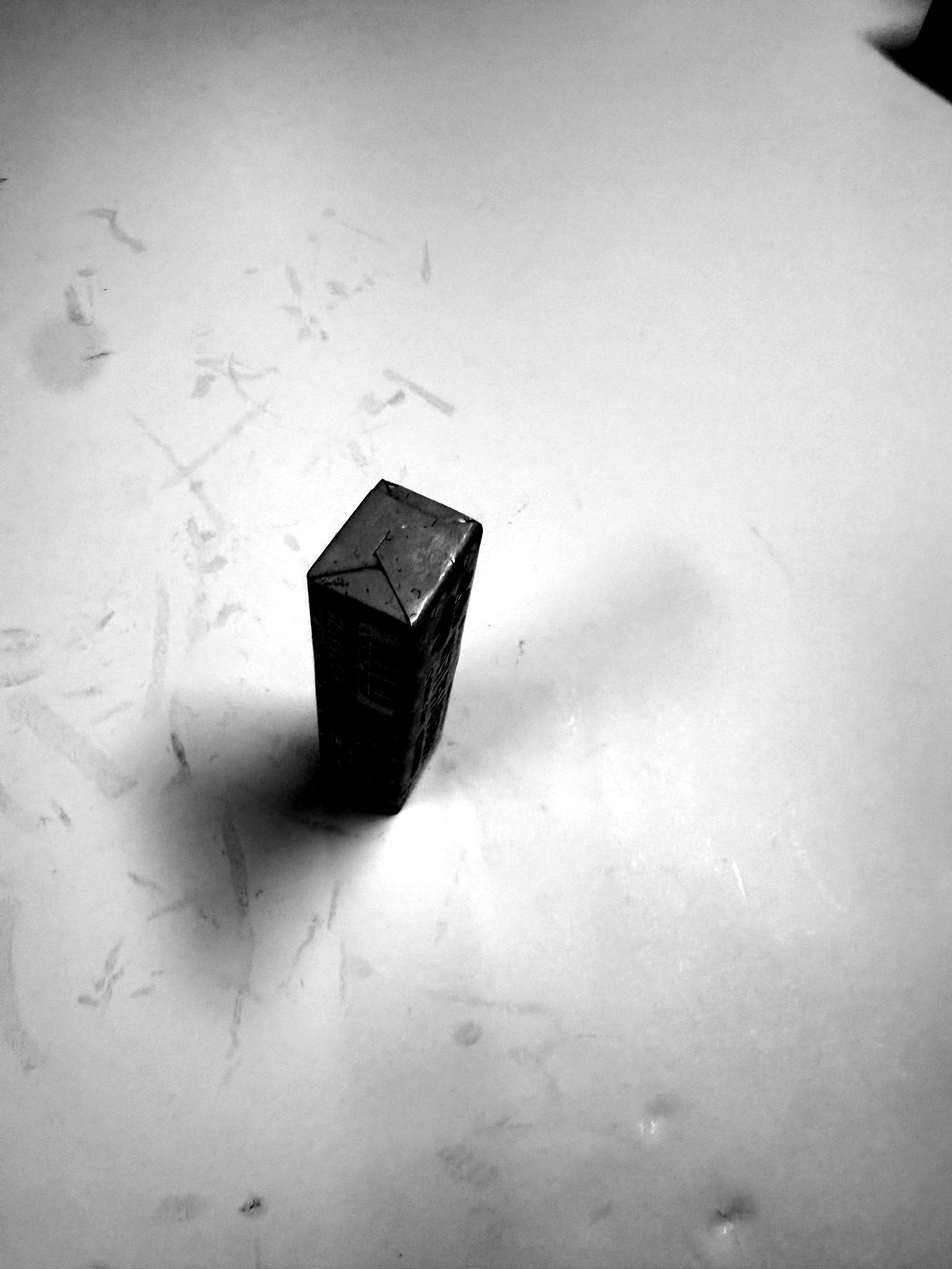gum_yellow: (309, 480, 485, 812)
